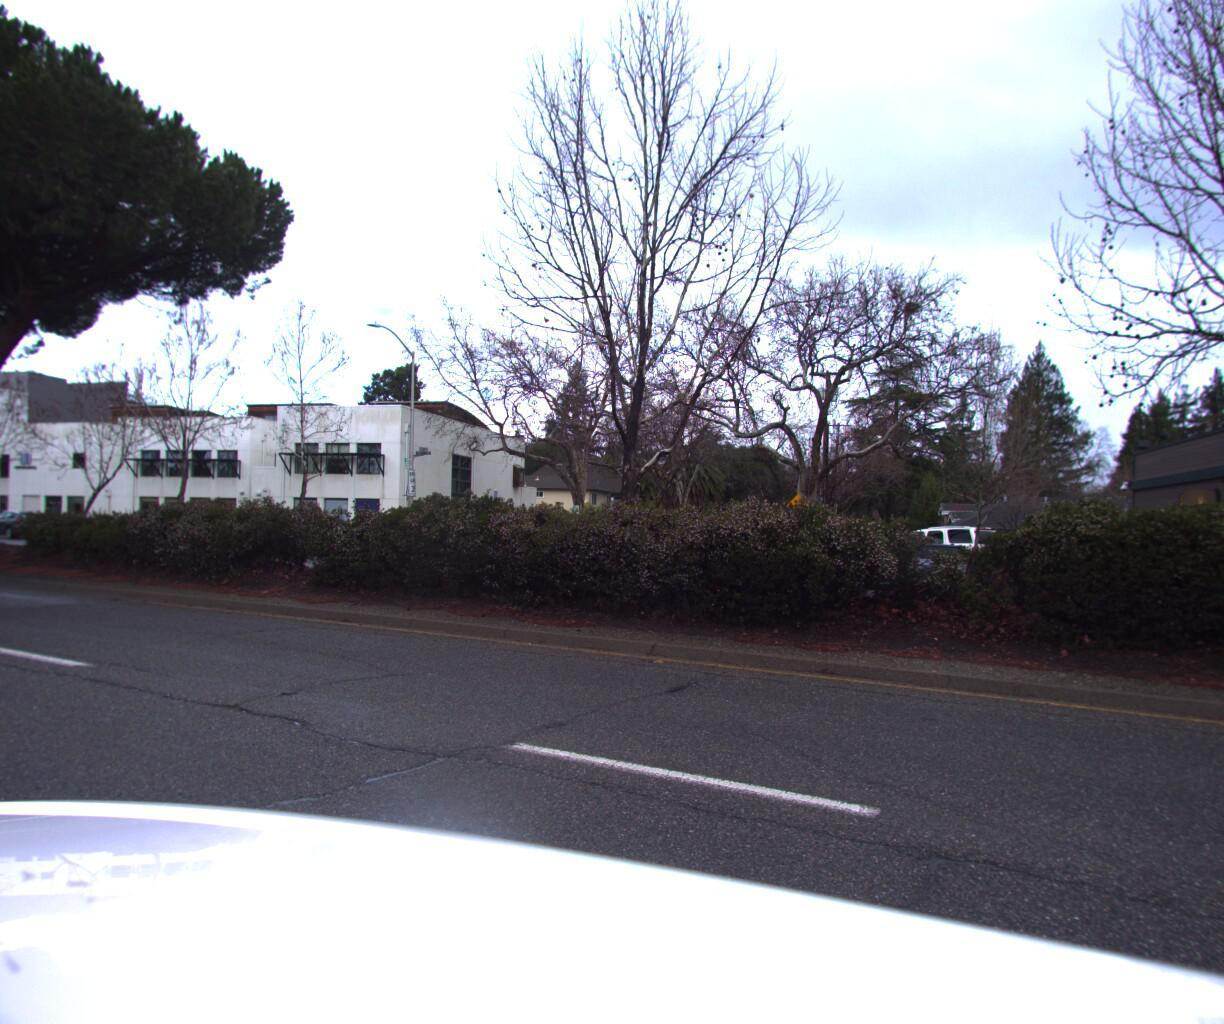car: (860, 524, 1015, 585), (0, 509, 53, 542)
